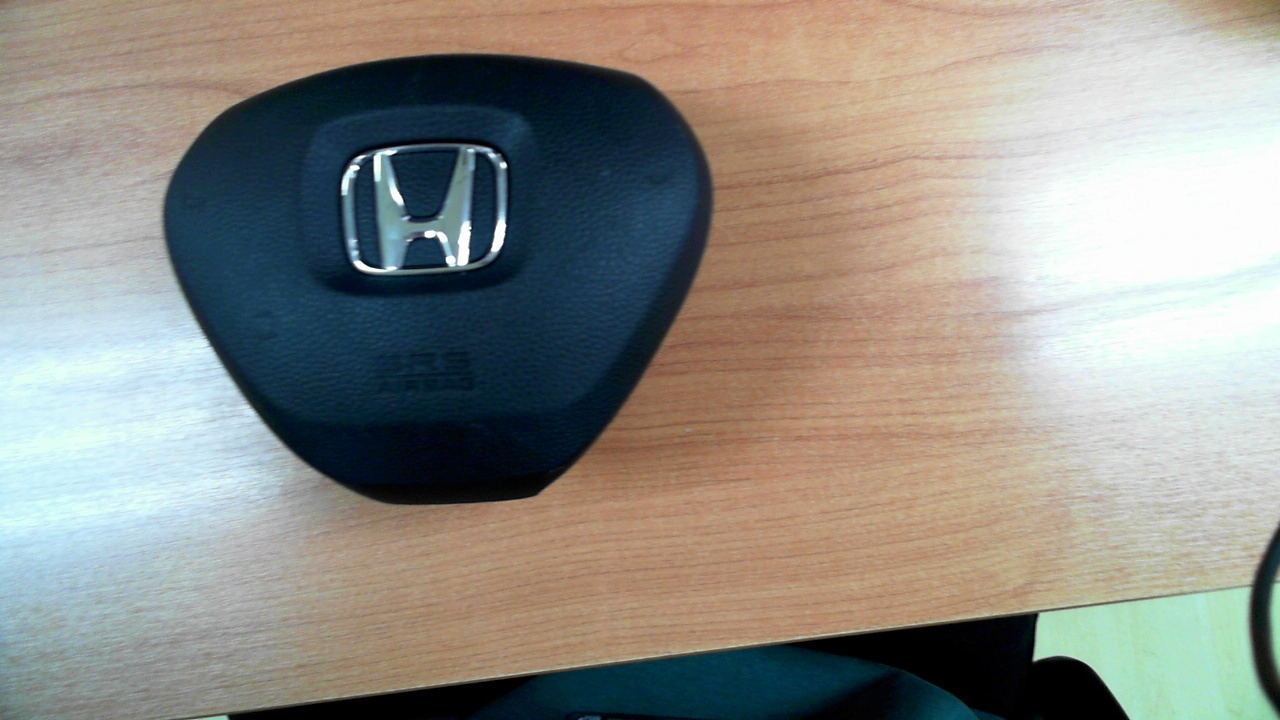Airbag: (161, 53, 714, 506)
Honda: (340, 142, 508, 275)
